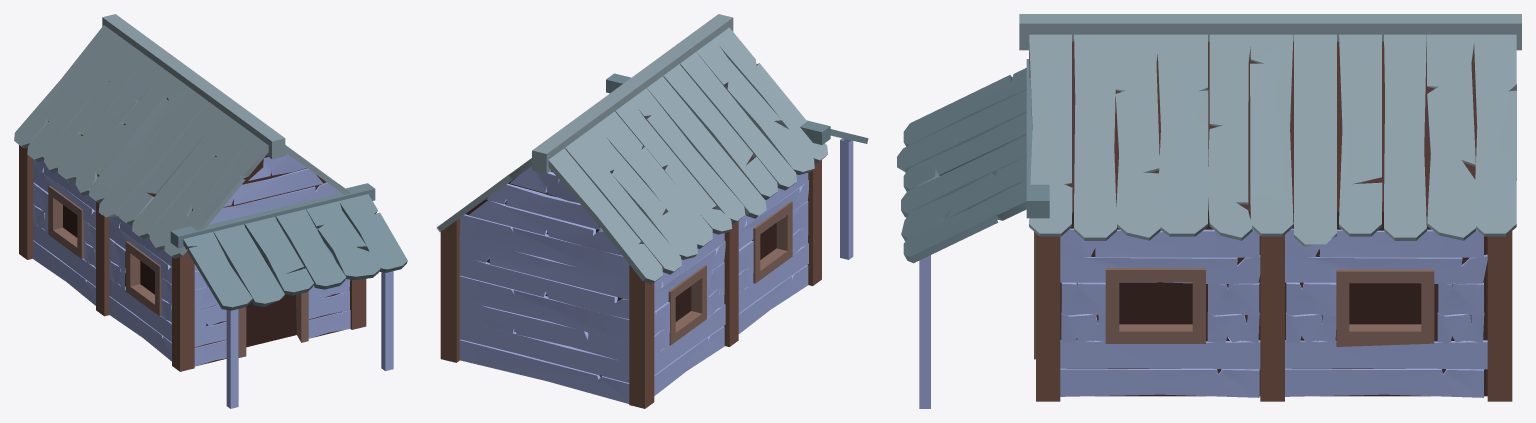
Rendered from Building_027.glb.
The picture shows the model from 3 angles, left to right: view 1: azimuth 30°, elevation 25°; view 2: azimuth 150°, elevation 25°; view 3: azimuth 270°, elevation 25°; orthographic projection. The views are drawn at different scales.
Visible parts, largest first — view 1: Building_027; view 2: Building_027; view 3: Building_027.
Part boxes in pixels (box(x1,y1,x2,y2)): Building_027: box(14, 14, 407, 408); Building_027: box(436, 14, 868, 408); Building_027: box(897, 14, 1521, 408).
Bounding box in the file's own units: 8.01 × 8.2 × 14.
1 material, 1 textured.
